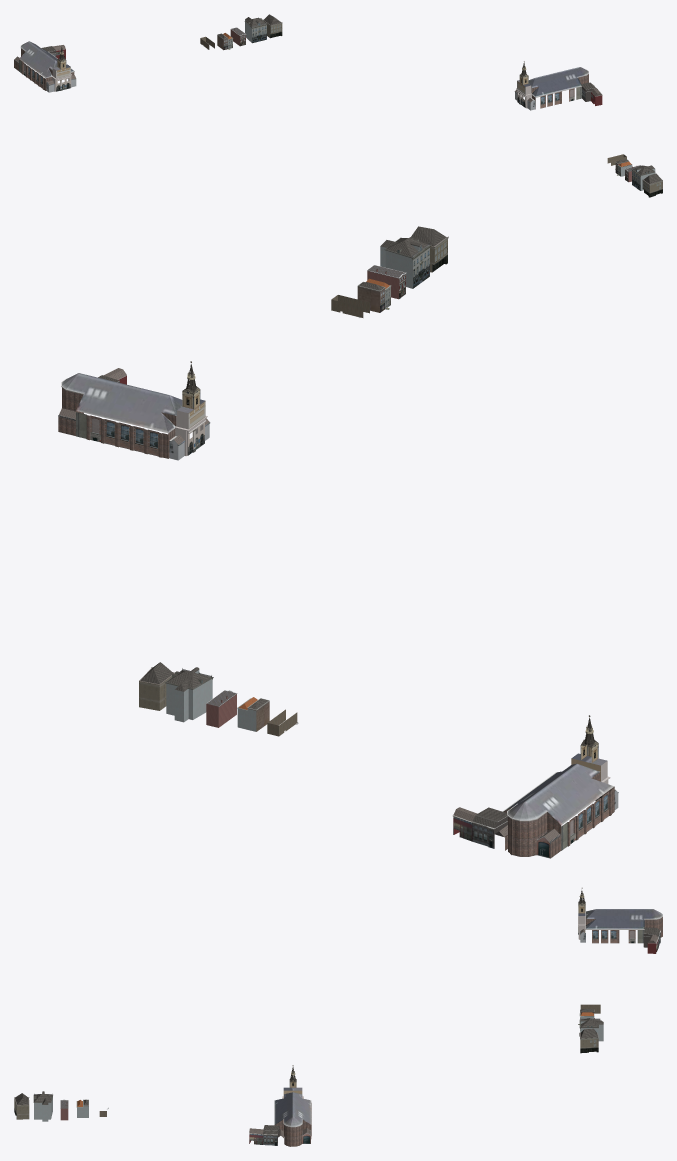
The model's file is Houses2.glb.
The picture shows the model from 3 angles, top to bottom: view 1: azimuth 30°, elevation 25°; view 2: azimuth 150°, elevation 25°; view 3: azimuth 270°, elevation 25°; orthographic projection. The views are drawn at different scales.
Parts seen in each view (by area): view 1: Object_308; view 2: Object_308; view 3: Object_308.
Boxes of the visible parts, box(x1,y1,x2,y2) form: Object_308: box(14, 14, 662, 197); Object_308: box(58, 226, 618, 858); Object_308: box(14, 887, 662, 1146).
Size of the model in its own units: 349 by 35.57 by 436.
Materials: 63 (56 with a texture image).
